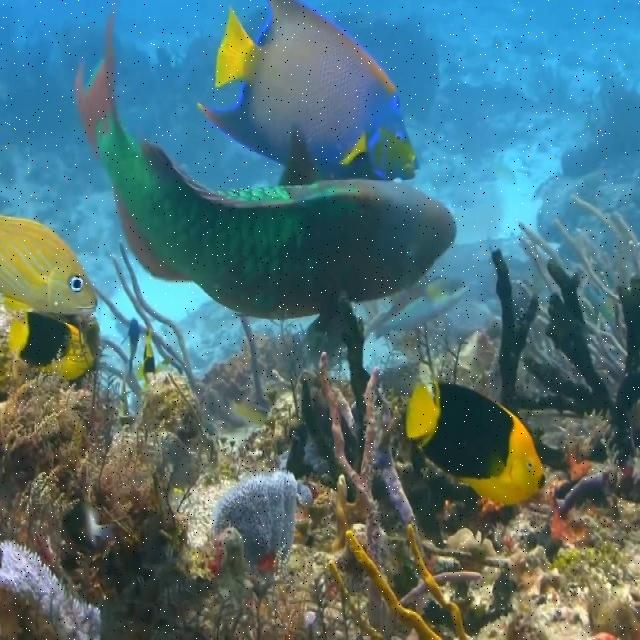fish: (75, 8, 457, 367), (195, 1, 422, 180), (405, 380, 545, 506), (0, 217, 99, 317), (366, 275, 470, 340), (7, 311, 95, 380), (121, 318, 148, 376), (561, 441, 593, 481), (137, 329, 160, 384)
reefs: (491, 193, 639, 516)
